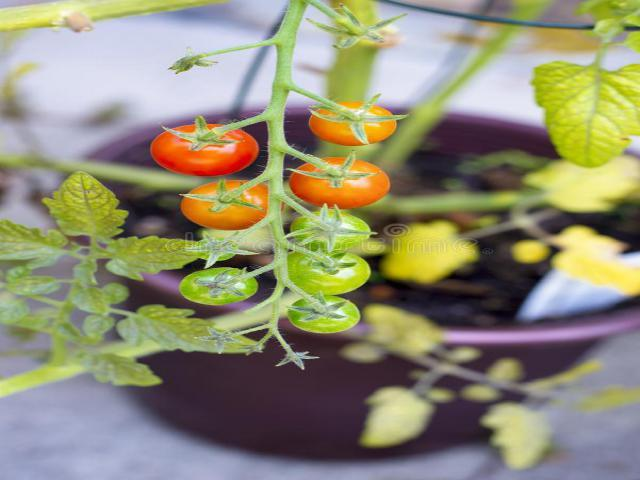tomato: (143, 120, 277, 176), (165, 178, 281, 232), (288, 158, 396, 212), (293, 102, 408, 144)
